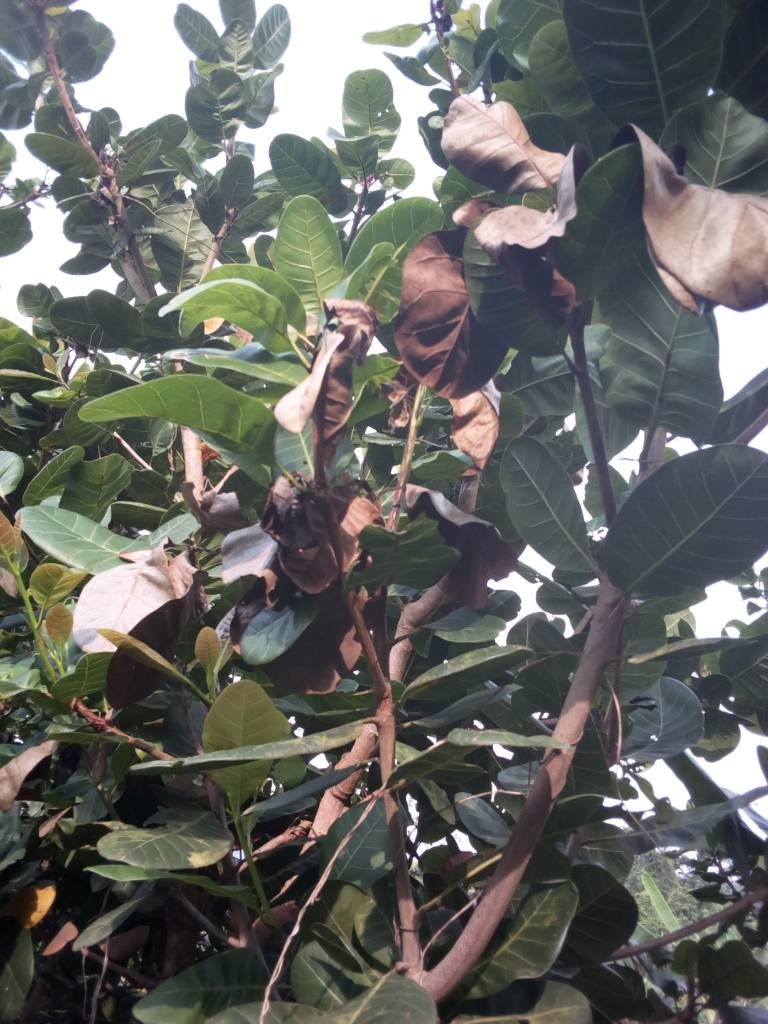Dessèchement des bourgeons: (304, 299, 372, 483), (288, 489, 368, 589)
